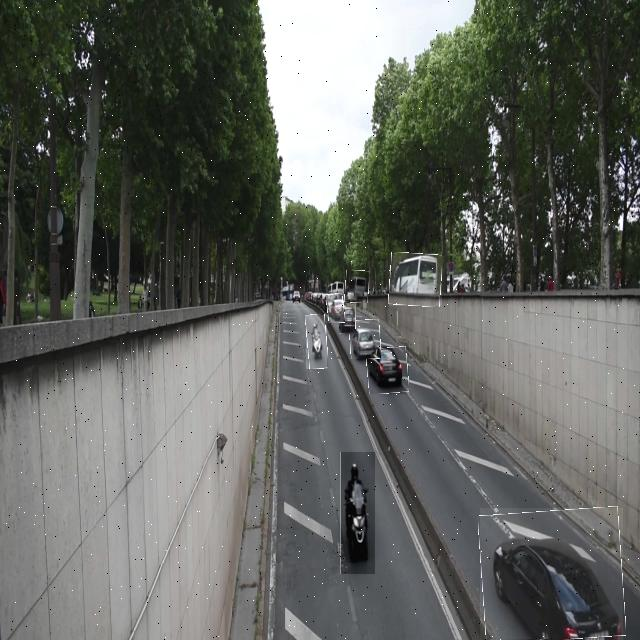Bus: (389, 253, 442, 306), (345, 270, 368, 303)
Car: (480, 508, 623, 640), (367, 347, 409, 394), (350, 320, 380, 359), (340, 296, 356, 334), (327, 294, 344, 323)
Motorcycle: (340, 452, 375, 574), (306, 315, 327, 369)
